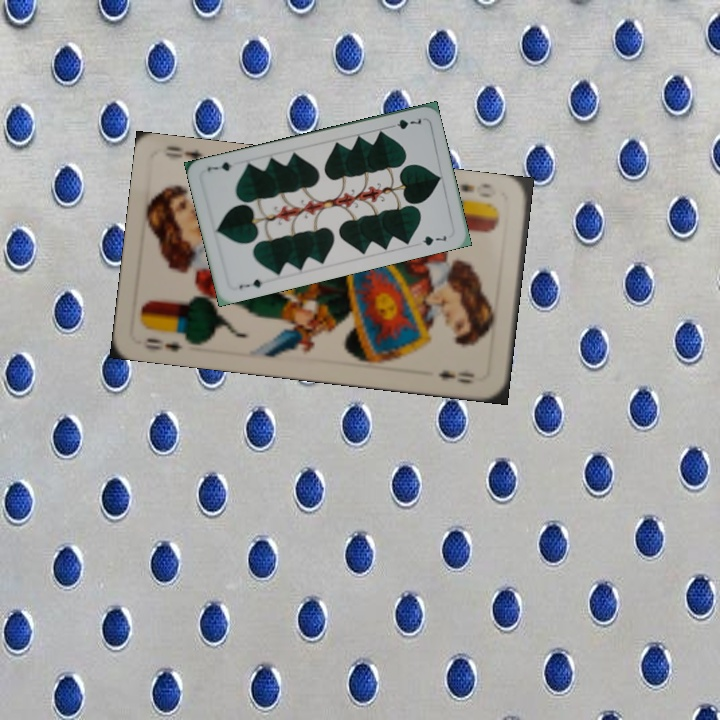EO: (456, 179, 499, 201), (140, 334, 185, 355)
G7: (385, 114, 425, 132), (235, 275, 265, 291)
